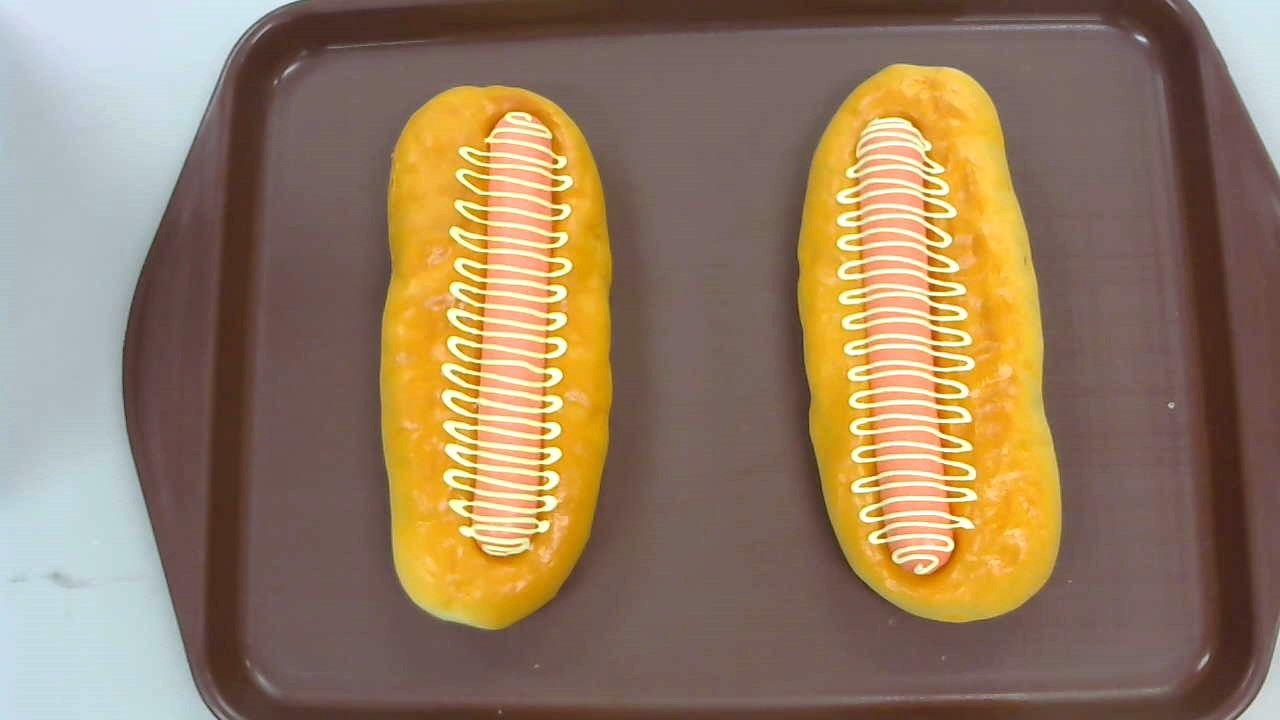hot dog: (795, 60, 1064, 625), (380, 84, 615, 632)
